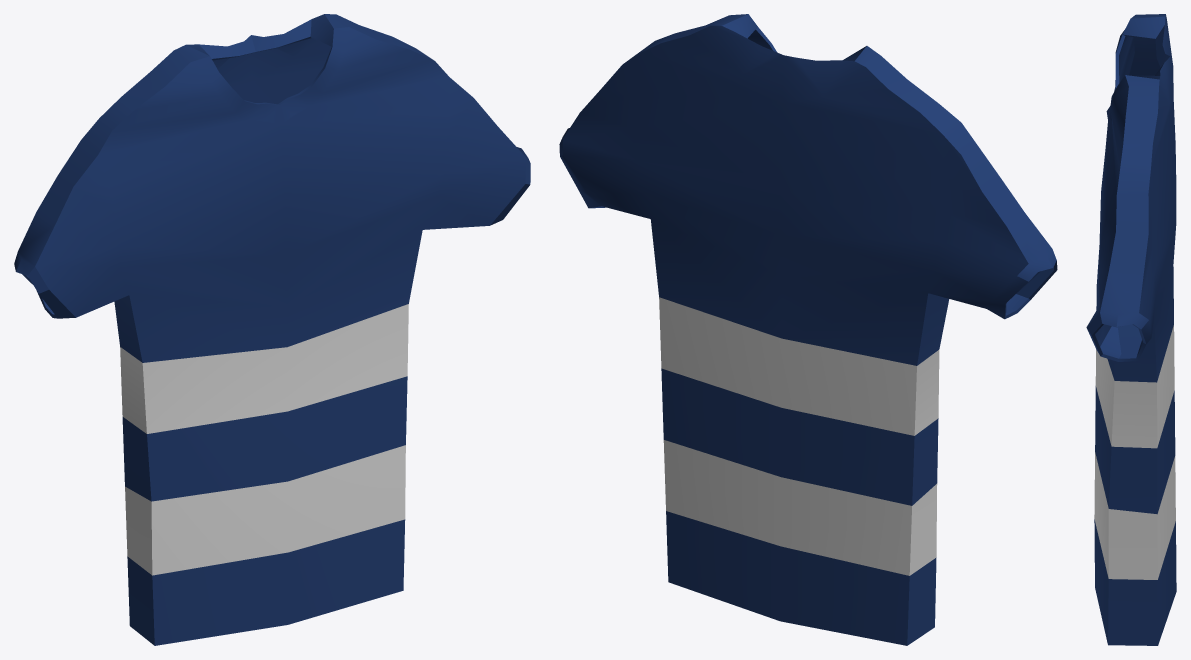
The model's file is camisa.fbx.
The picture shows the model from 3 angles, left to right: view 1: azimuth 30°, elevation 25°; view 2: azimuth 150°, elevation 25°; view 3: azimuth 270°, elevation 25°; orthographic projection. The views are drawn at different scales.
Visible parts, largest first — view 1: Camisa; view 2: Camisa; view 3: Camisa.
Part boxes in pixels (box(x1,y1,x2,y2)): Camisa: box(14, 14, 530, 645); Camisa: box(559, 14, 1057, 645); Camisa: box(1086, 14, 1176, 645).
Bounding box in the file's own units: 454 × 496 × 74.42.
